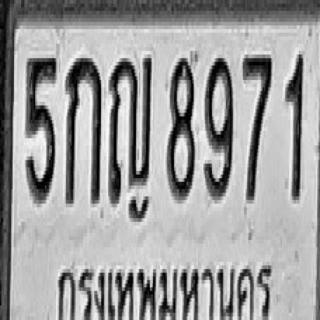A01: (65, 54, 100, 204)
A13: (109, 53, 152, 202)
N01: (285, 51, 303, 200)
N05: (25, 54, 56, 204)
N07: (242, 51, 272, 200)
N08: (166, 54, 194, 200)
N09: (203, 56, 233, 198)
P04: (55, 252, 274, 320)
